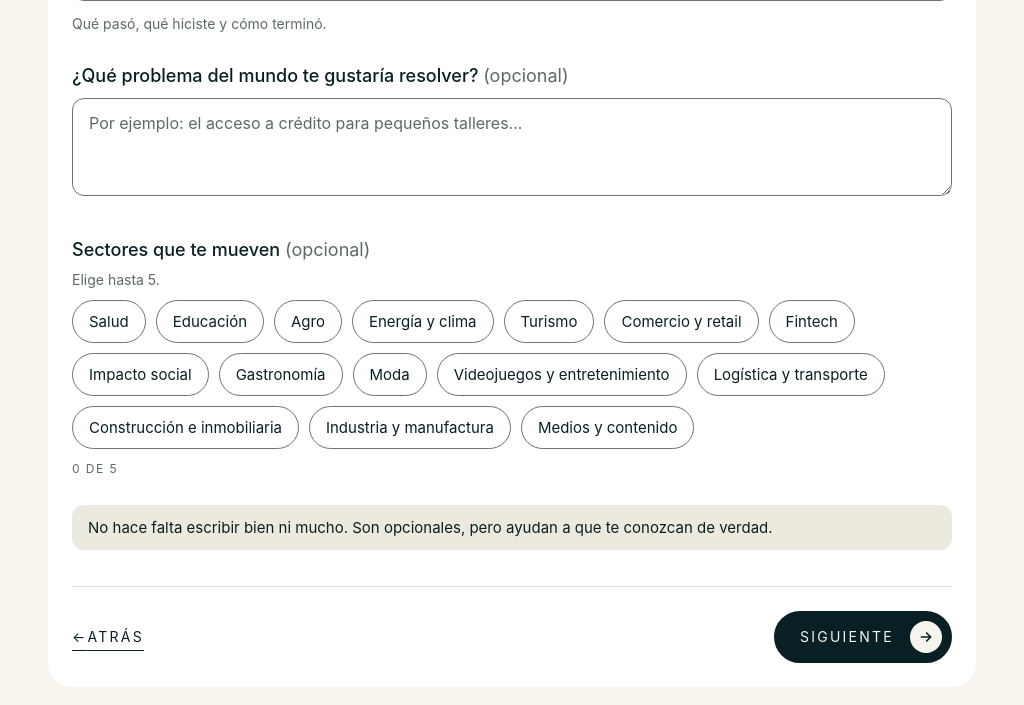
Test case: HistoriasView: sectores › deja marcar hasta cinco, desactiva el resto y lleva la cuenta
(page scrolled)
Step 1. Click the checkbox labelled "Salud" → coordinates (109, 322), box [72, 300, 146, 343]
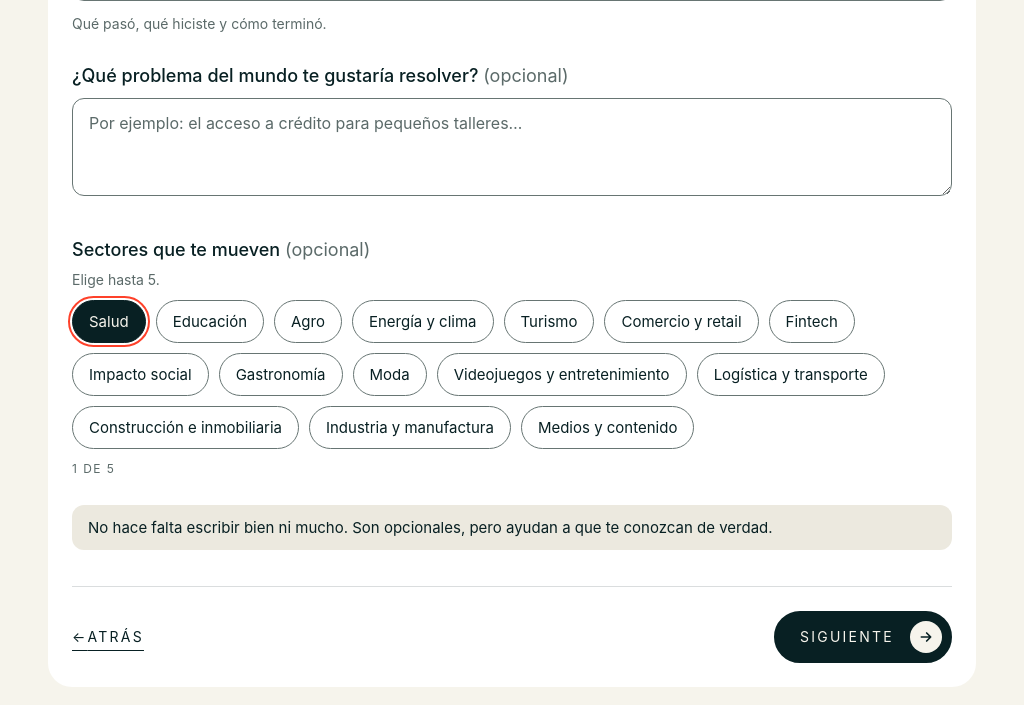
Step 2. Click the checkbox labelled "Educación" → coordinates (210, 322), box [156, 300, 264, 343]
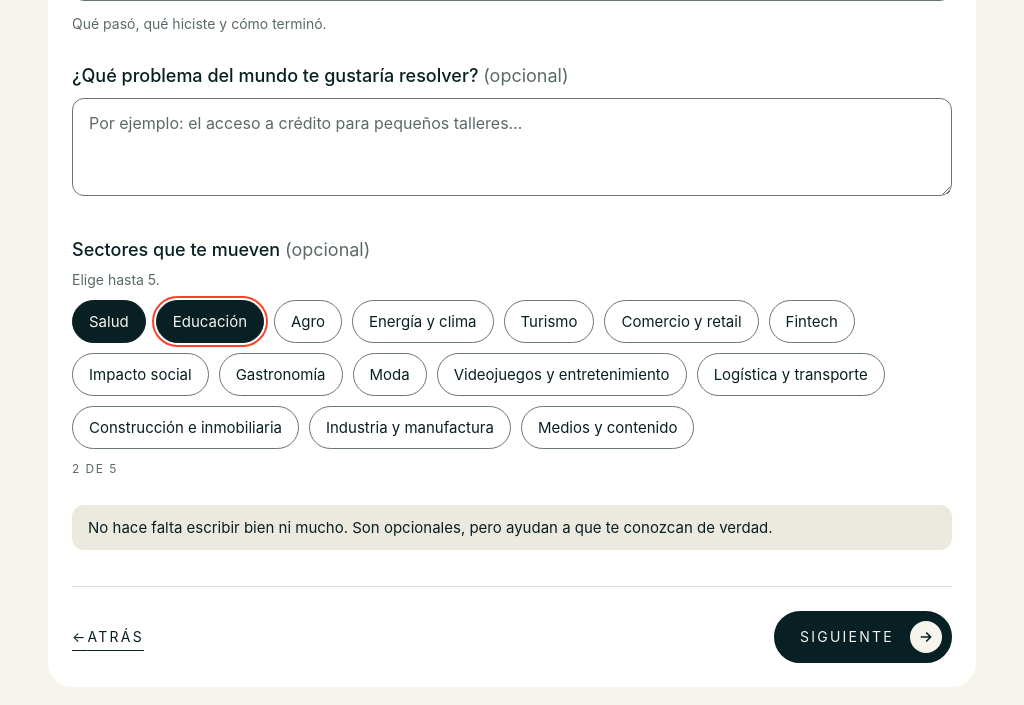
Step 3. Click the checkbox labelled "Agro" → coordinates (308, 322), box [274, 300, 342, 343]
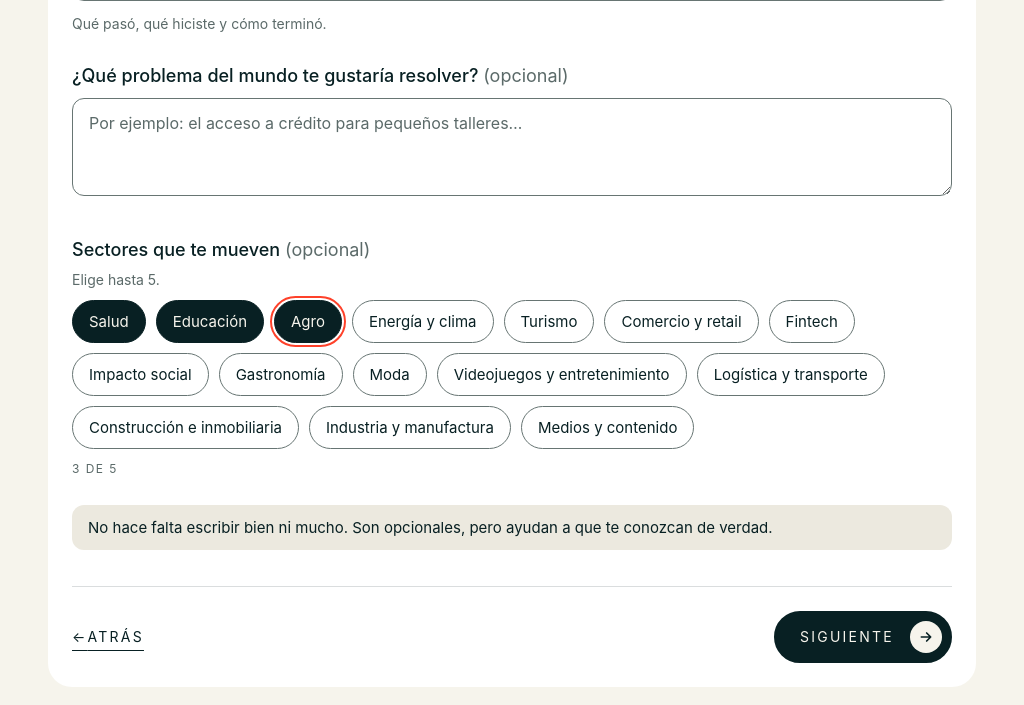
Step 4. Click the checkbox labelled "Turismo" → coordinates (549, 322), box [504, 300, 594, 343]
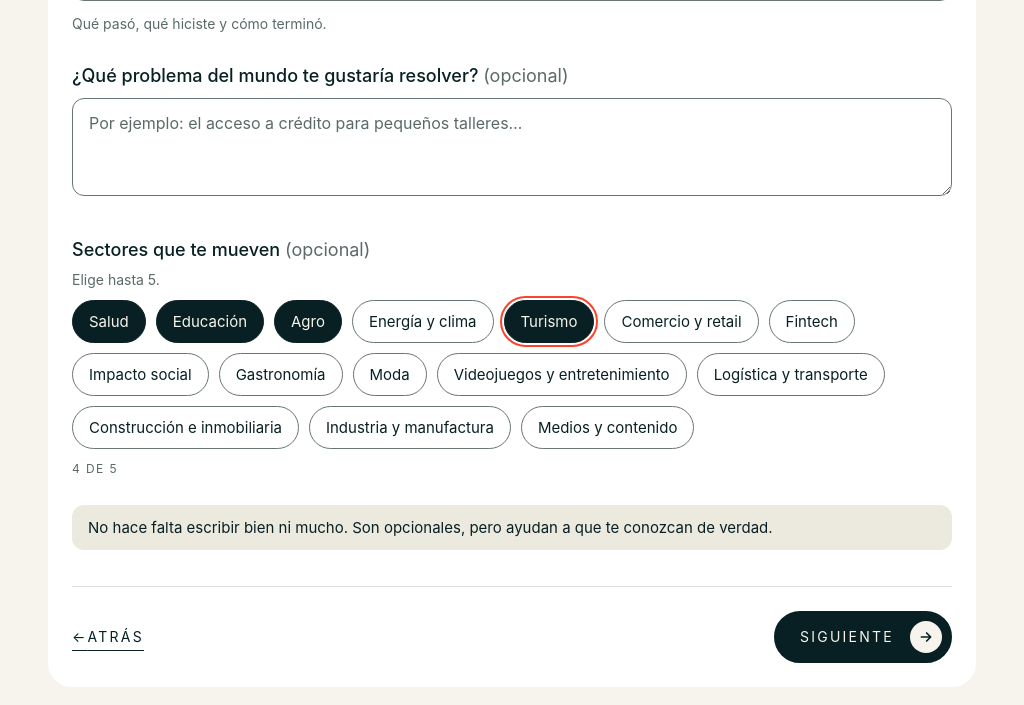
Step 5. Click the checkbox labelled "Moda" → coordinates (390, 375), box [352, 353, 427, 396]
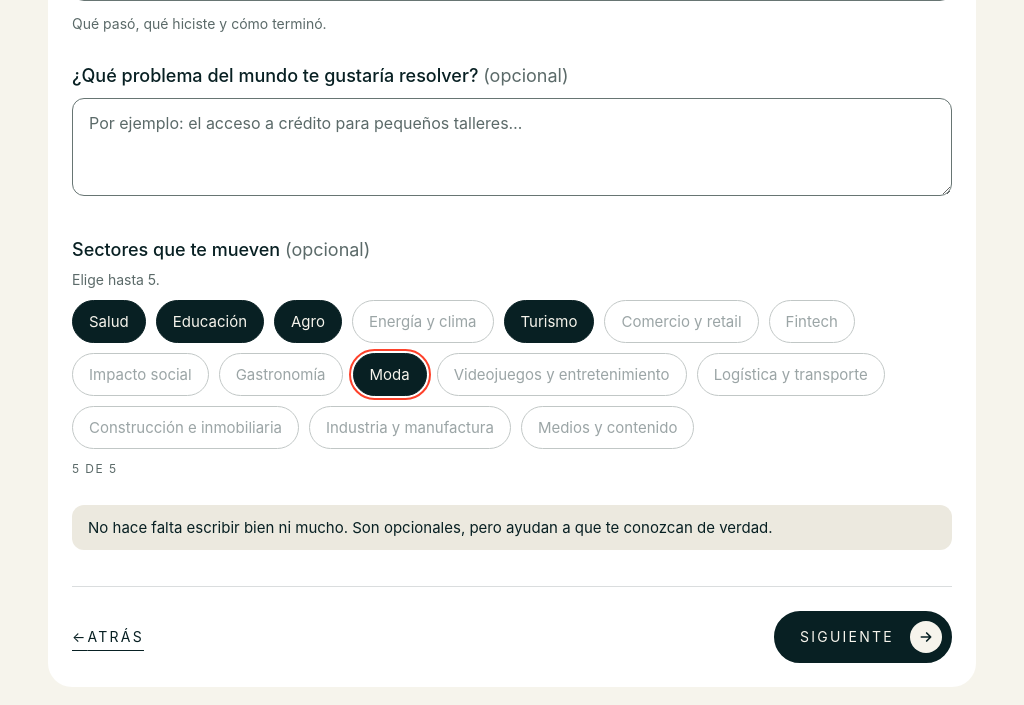
expect the text "5 de 5" is shown: met, box [72, 461, 118, 476]
expect the checkbox labelled "Fintech" is disabled: met, box [769, 300, 855, 343]
Step 6. Click the checkbox labelled "Agro" → coordinates (308, 322), box [274, 300, 342, 343]
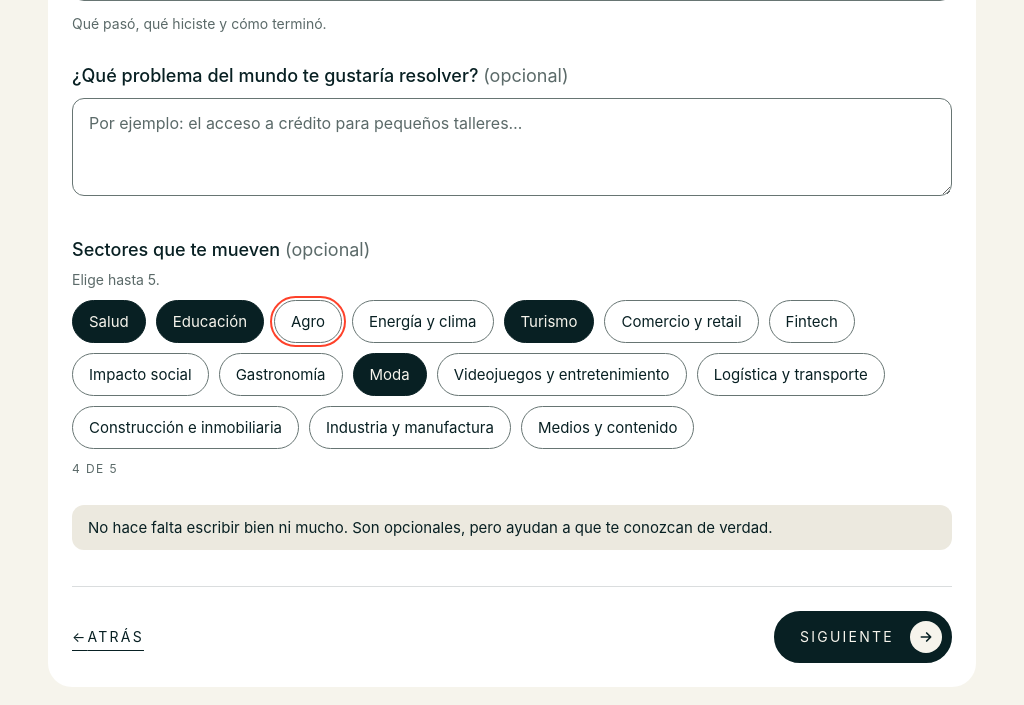
expect the text "4 de 5" is shown: met, box [72, 461, 118, 476]
expect the checkbox labelled "Fintech" is enabled: met, box [769, 300, 855, 343]
